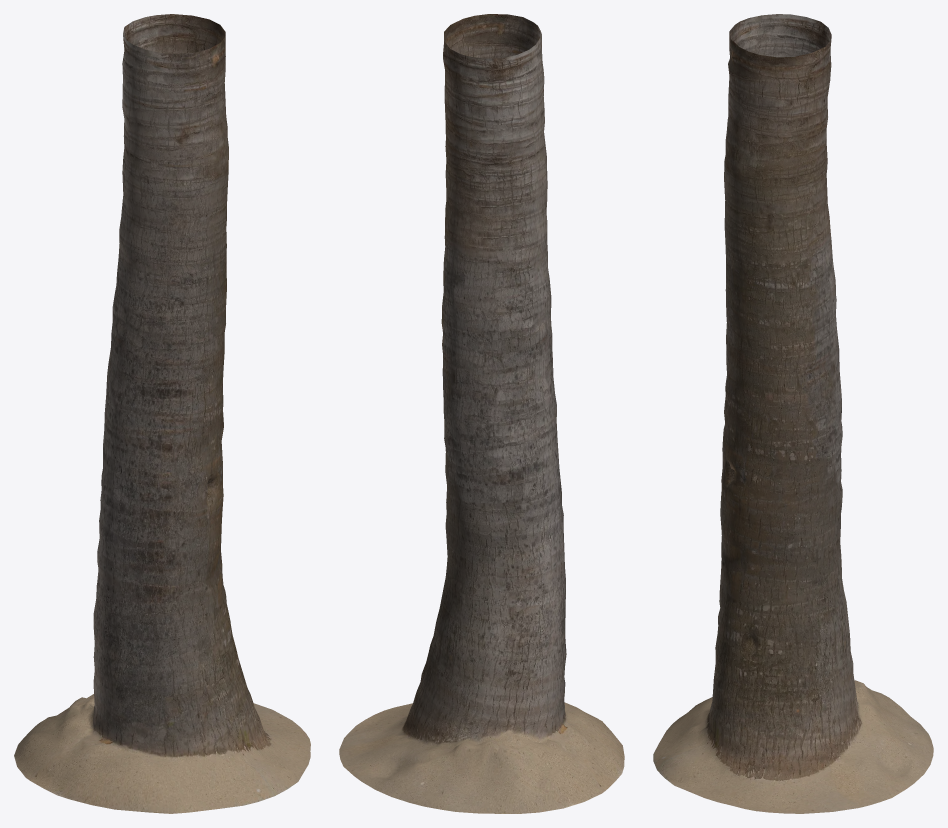
File: QuixelPalmTrunk.glb
3 renders of one model, left to right at view 1: azimuth 30°, elevation 25°; view 2: azimuth 150°, elevation 25°; view 3: azimuth 270°, elevation 25°, orthographic.
Visible parts, largest first — view 1: ue1ifg0fa_LOD0_TIER2_000; view 2: ue1ifg0fa_LOD0_TIER2_000; view 3: ue1ifg0fa_LOD0_TIER2_000.
Boxes of the visible parts, x1,y1,x2,y2 form: ue1ifg0fa_LOD0_TIER2_000: [14, 14, 310, 813]; ue1ifg0fa_LOD0_TIER2_000: [339, 14, 624, 813]; ue1ifg0fa_LOD0_TIER2_000: [653, 14, 933, 813].
Size of the model in its own units: 0.8493 by 2.28 by 0.8073.
Materials: 1 (1 with a texture image).
